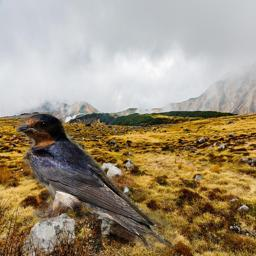Swallow: (16, 112, 180, 253)
